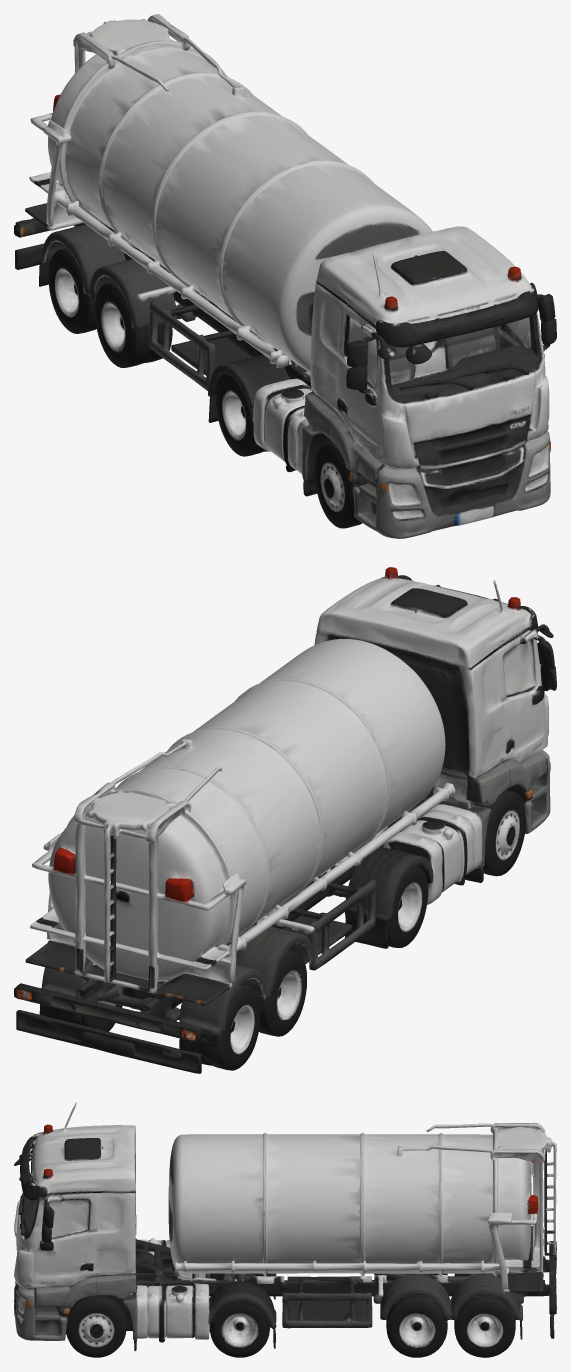
File: 069_fuel_tanker.glb
The picture shows the model from 3 angles, top to bottom: view 1: azimuth 30°, elevation 25°; view 2: azimuth 150°, elevation 25°; view 3: azimuth 270°, elevation 25°; orthographic projection. The views are drawn at different scales.
Visible parts, largest first — view 1: geometry_0; view 2: geometry_0; view 3: geometry_0.
Boxes of the visible parts, x1=… form: geometry_0: x1=14, y1=14, x2=556, y2=538; geometry_0: x1=14, y1=567, x2=556, y2=1073; geometry_0: x1=14, y1=1102, x2=556, y2=1357.
Size of the model in its own units: 3.57 by 4.55 by 11.
Materials: 1 (1 with a texture image).
